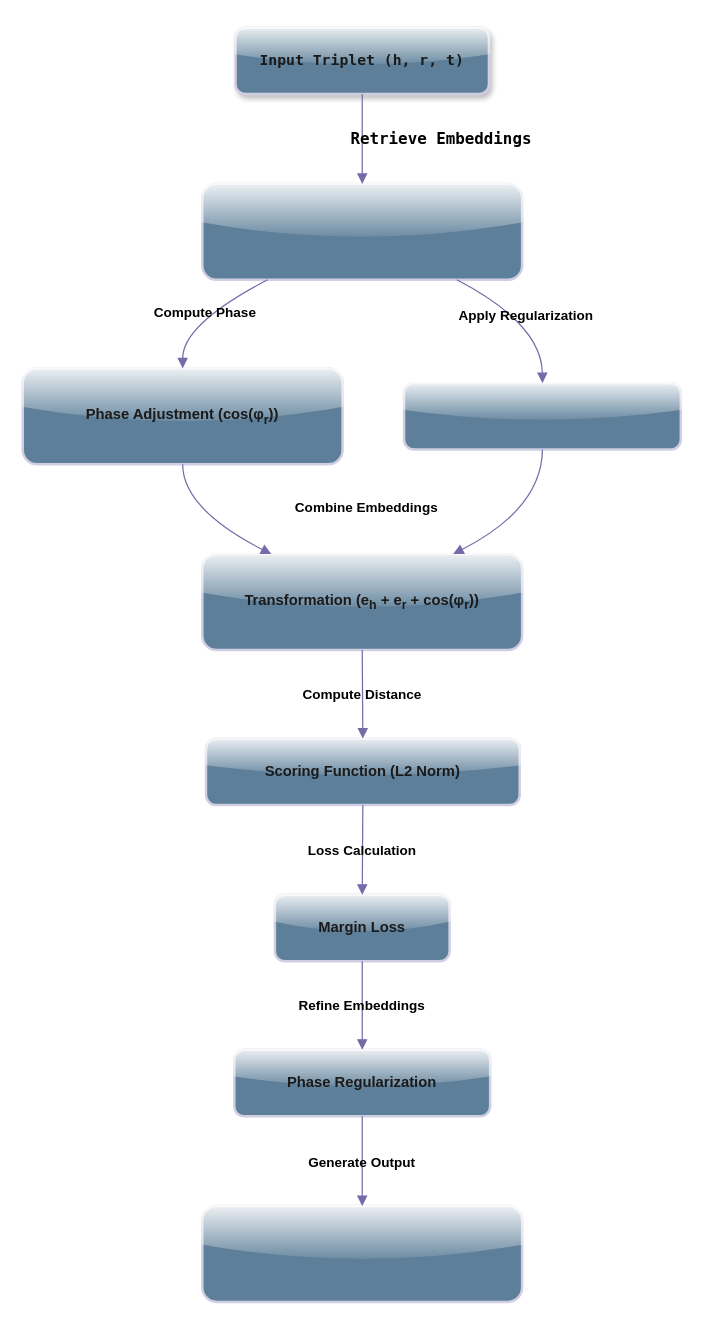
This 702x1323 diagram has some shape labels left out. Here are the shapes that lost their labels. From the top down, the centre of each, then its label:
At pixel 361 231: "Embedding Lookup (e h , e r , e t )".
At pixel 541 415: "Modulus Regularization".
At pixel 361 1253: "Output: Triplet Plausibility Score".
